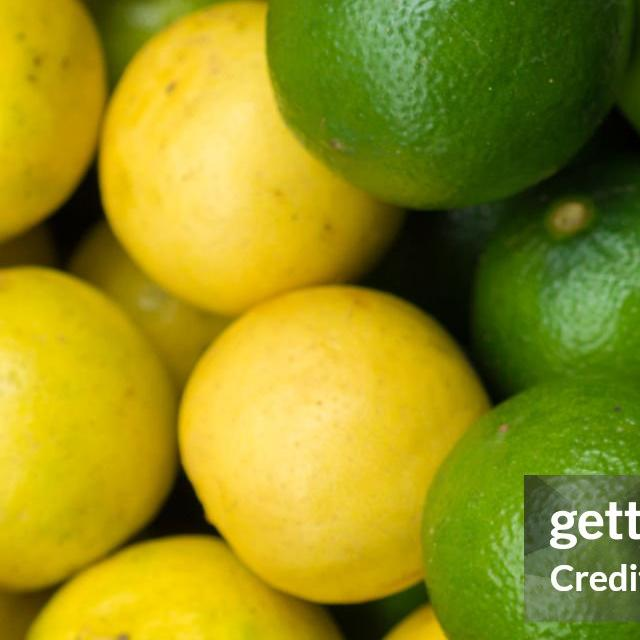lime: (267, 0, 634, 214)
